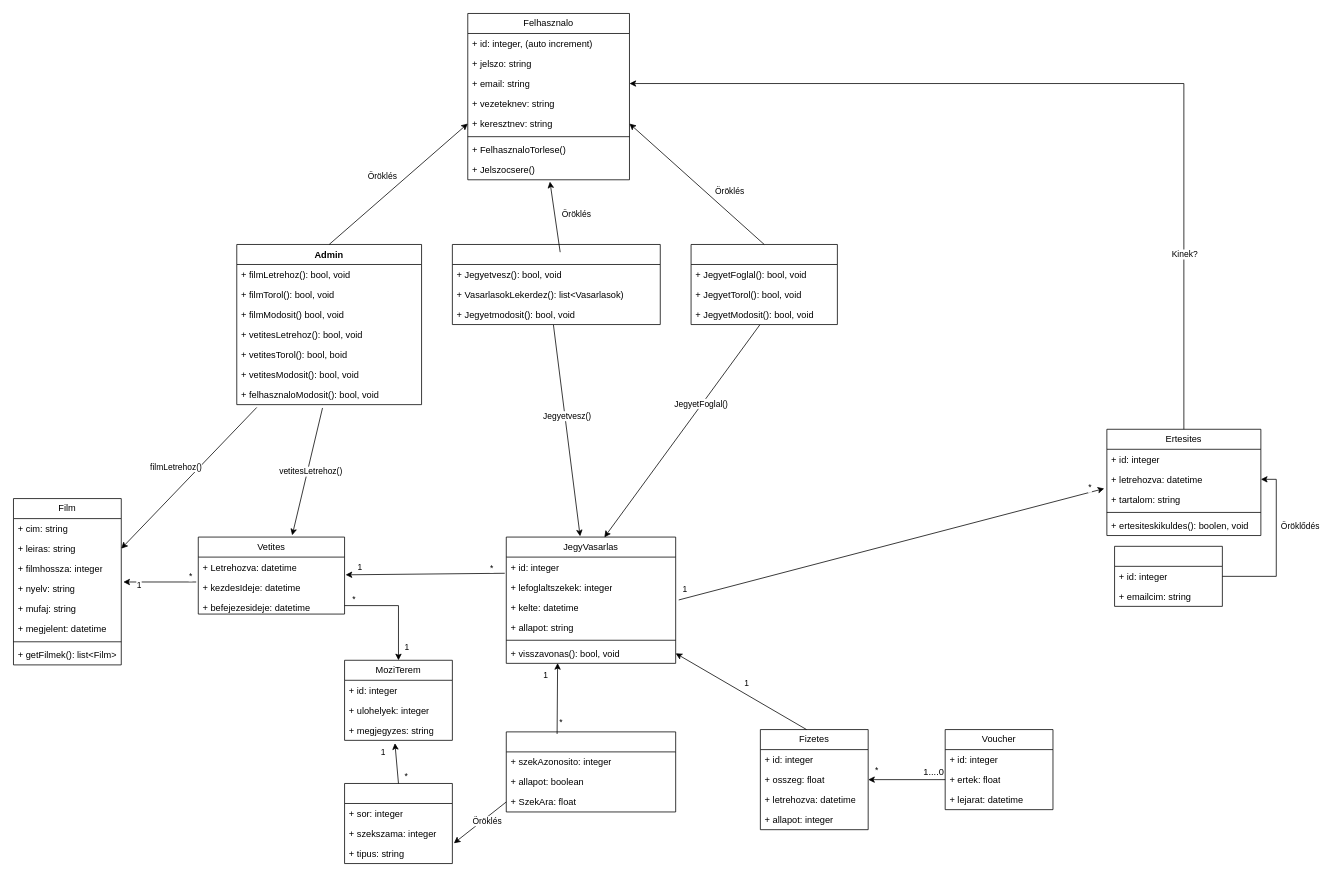
This 1332x879 diagram has some shape labels left out. Here are the shapes that lost their labels. From the top down, the box of each, then its label:
(452, 244, 660, 325): Vasarlo
(690, 244, 837, 325): Jegyarus
(1114, 546, 1222, 606): Emailertesites
(506, 731, 676, 812): SzekAllapot
(344, 783, 452, 864): MoziTeremSzek
